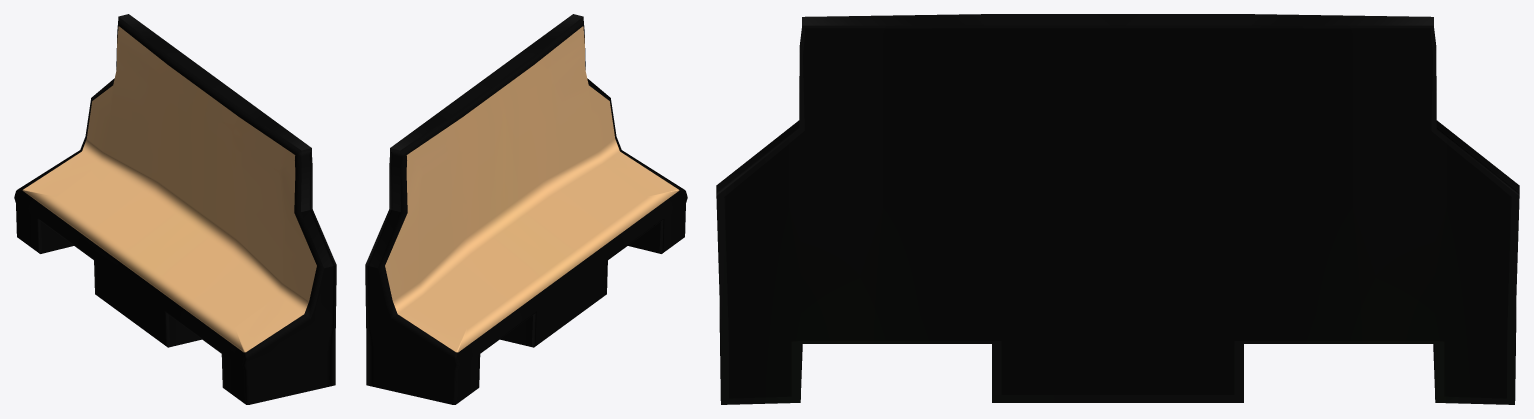
The model's file is AssentoTrasCarro.fbx.
3 views of the same model, side by side, from view 1: azimuth 30°, elevation 25°; view 2: azimuth 150°, elevation 25°; view 3: azimuth 270°, elevation 25° (orthographic). The views are drawn at different scales.
Visible parts, largest first — view 1: AssentoTrasCarro; view 2: AssentoTrasCarro; view 3: AssentoTrasCarro.
Boxes of the visible parts, x1,y1,x2,y2 form: AssentoTrasCarro: (14,14,336,404); AssentoTrasCarro: (365,14,687,404); AssentoTrasCarro: (716,14,1519,404).
Bounding box in the file's own units: 34.2 × 78.51 × 151.
